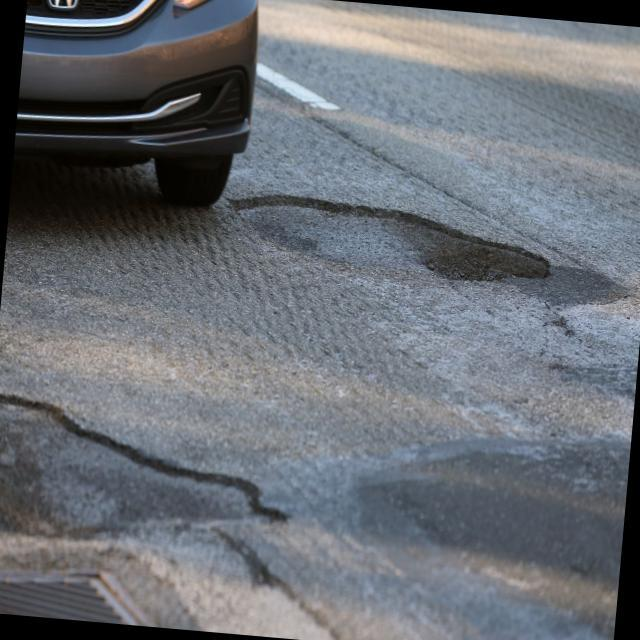Pothole: (0, 346, 314, 632), (210, 156, 604, 360)
